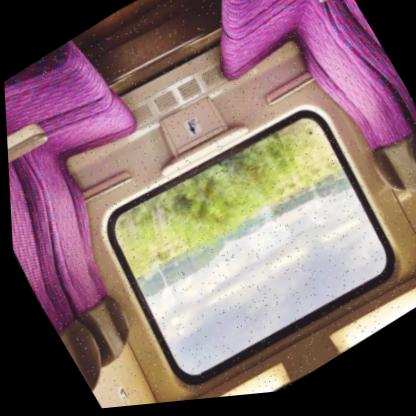Window: (59, 67, 416, 412)
